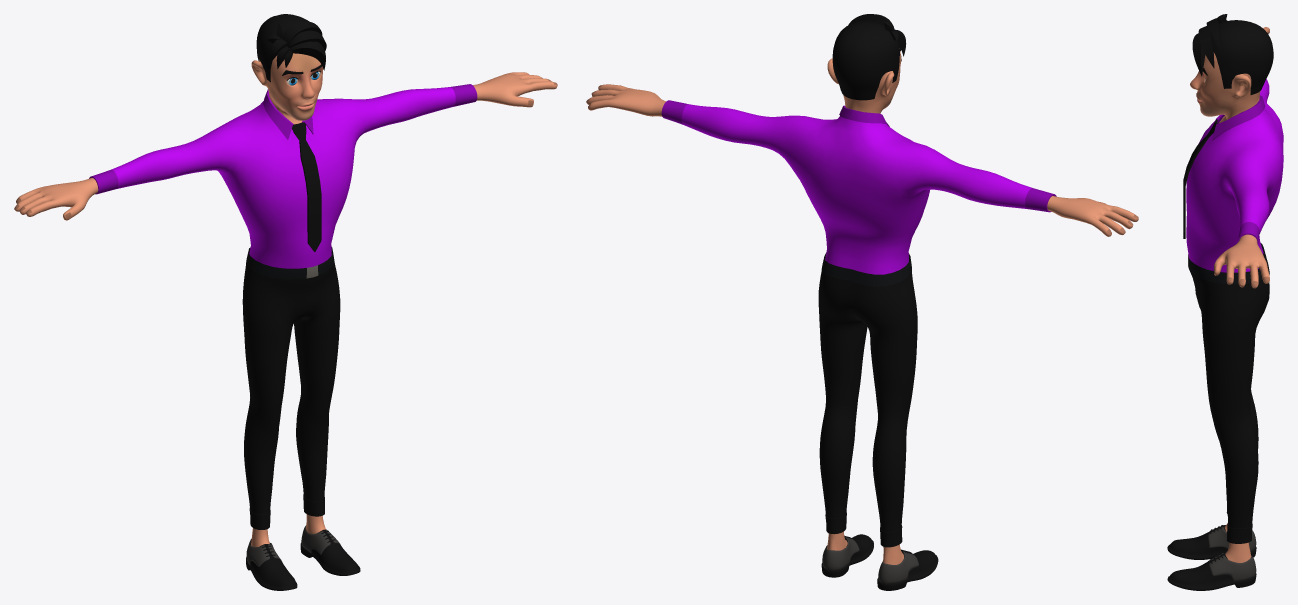
File: Character_1.obj
3 views of the same model, side by side, from view 1: azimuth 30°, elevation 25°; view 2: azimuth 150°, elevation 25°; view 3: azimuth 270°, elevation 25° (orthographic).
Parts seen in each view (by area): view 1: D_1_mesh.002, D_3_mesh.004, Body_Vucud.006, Shoes_shoe_dress_v2.002, Hair_NurbsPath.009, D_2_mesh.005; view 2: D_1_mesh.002, D_3_mesh.004, Body_Vucud.006, Hair_NurbsPath.009, Shoes_shoe_dress_v2.002; view 3: D_3_mesh.004, D_1_mesh.002, Body_Vucud.006, Hair_NurbsPath.009, Shoes_shoe_dress_v2.002, D_2_mesh.005.
Part boxes in pixels (x1,y1,x2,y2): D_1_mesh.002: (89, 84, 477, 268); D_3_mesh.004: (242, 247, 340, 529); Body_Vucud.006: (14, 53, 557, 546); Shoes_shoe_dress_v2.002: (246, 526, 360, 590); Hair_NurbsPath.009: (256, 14, 326, 82); D_2_mesh.005: (292, 122, 321, 251); D_1_mesh.002: (661, 100, 1056, 274); D_3_mesh.004: (818, 253, 917, 547); Body_Vucud.006: (586, 51, 1138, 564); Hair_NurbsPath.009: (832, 14, 906, 100); Shoes_shoe_dress_v2.002: (821, 534, 938, 590); D_3_mesh.004: (1188, 243, 1269, 543); D_1_mesh.002: (1186, 79, 1283, 272); Body_Vucud.006: (1190, 27, 1269, 562); Hair_NurbsPath.009: (1192, 14, 1273, 94); Shoes_shoe_dress_v2.002: (1167, 525, 1256, 590); D_2_mesh.005: (1183, 119, 1217, 238).
Bounding box in the file's own units: 7.98 × 7.83 × 1.5.
3 materials, 3 textured.
